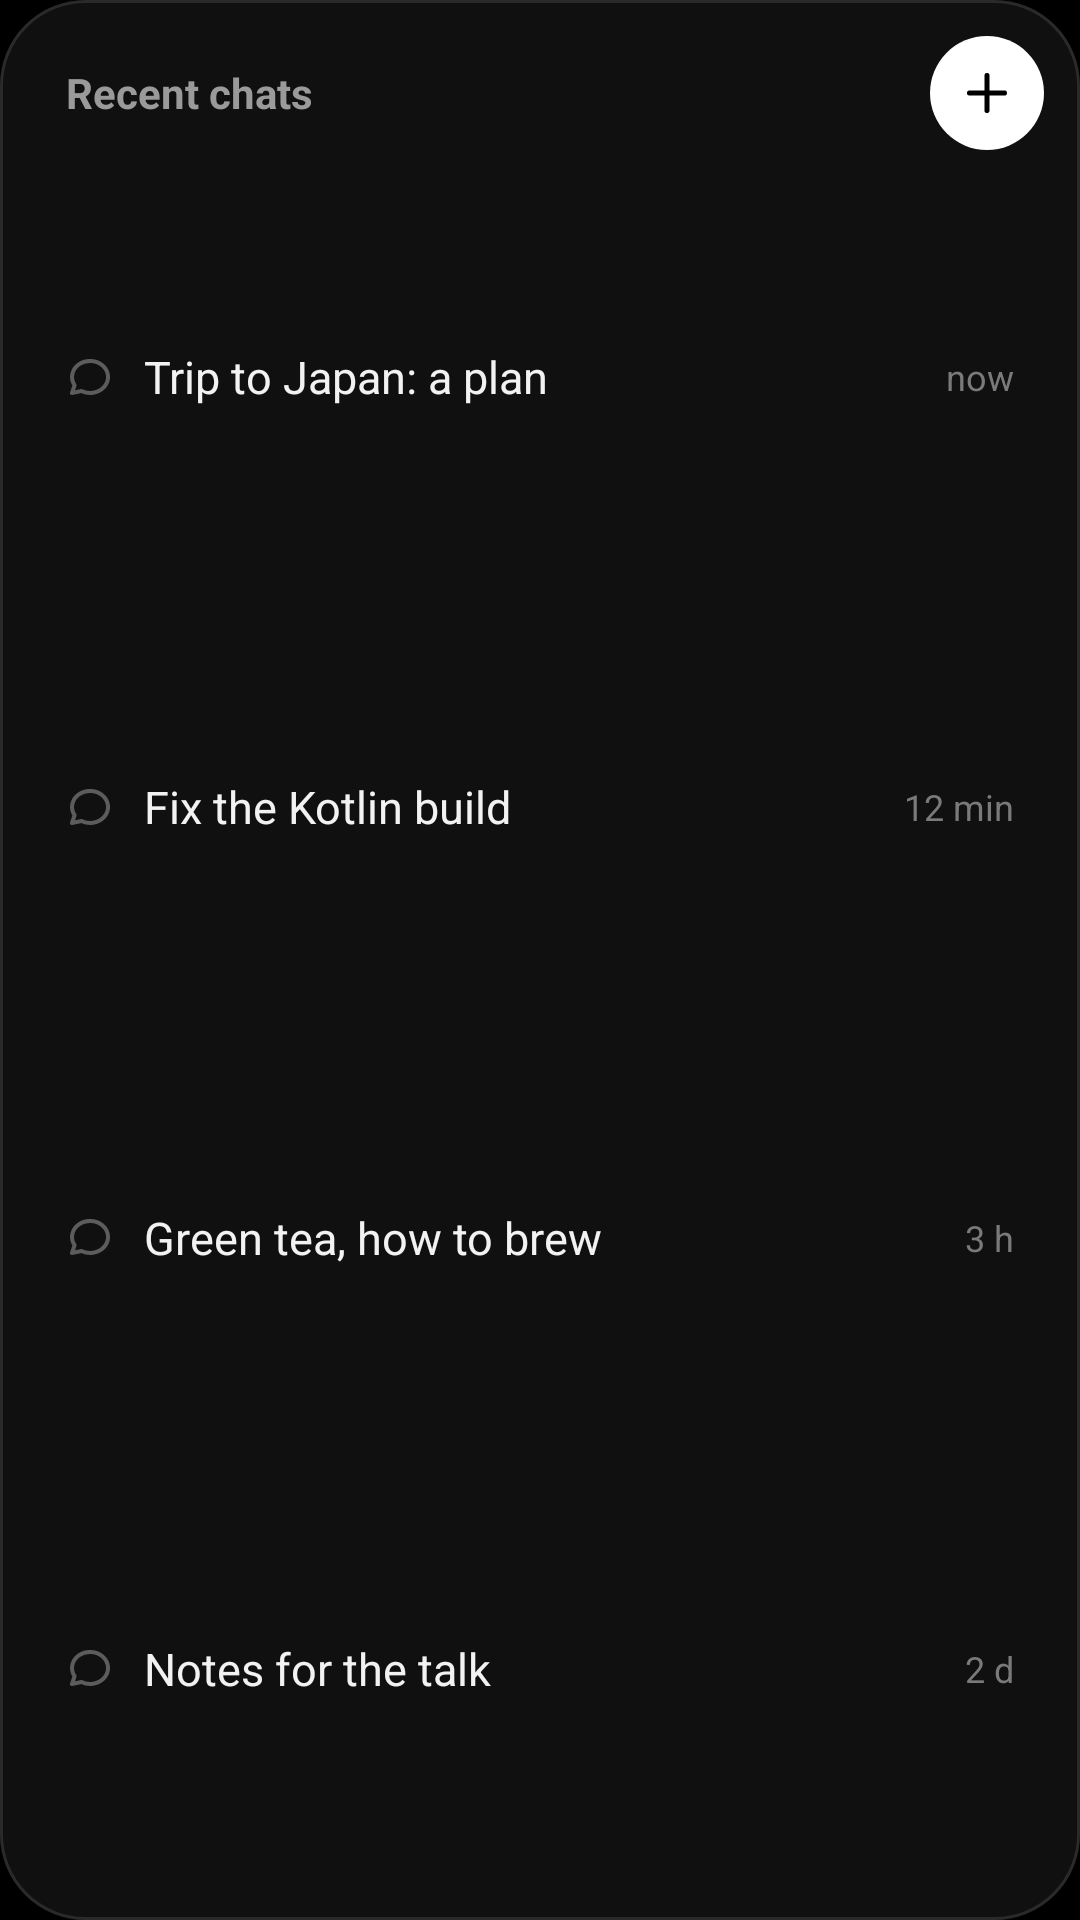

Named icons in this screenshot (1080w x 1920h) and their centers, point (x, y):
message circle: point (90, 377), point (90, 807), point (90, 1237), point (90, 1668)
plus: point (987, 93)
